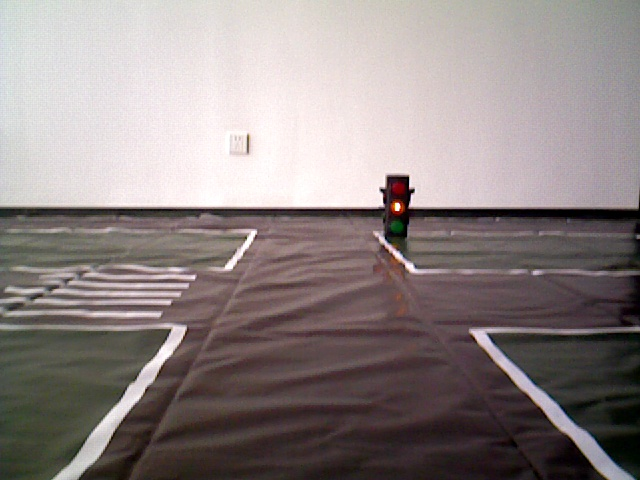yellow: (384, 174, 412, 242)
